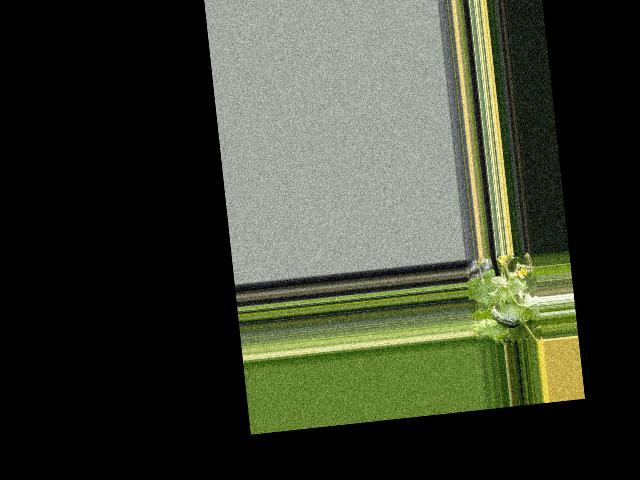cucumber: (490, 302, 521, 330)
